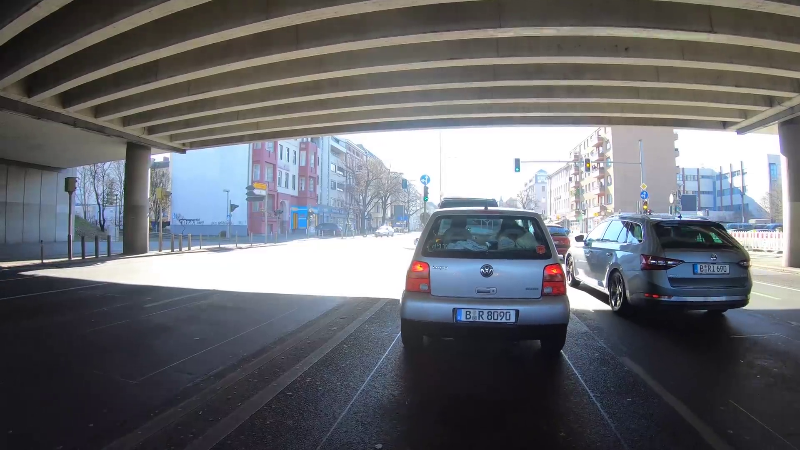Plate: (451, 305, 518, 324), (690, 261, 730, 275)
